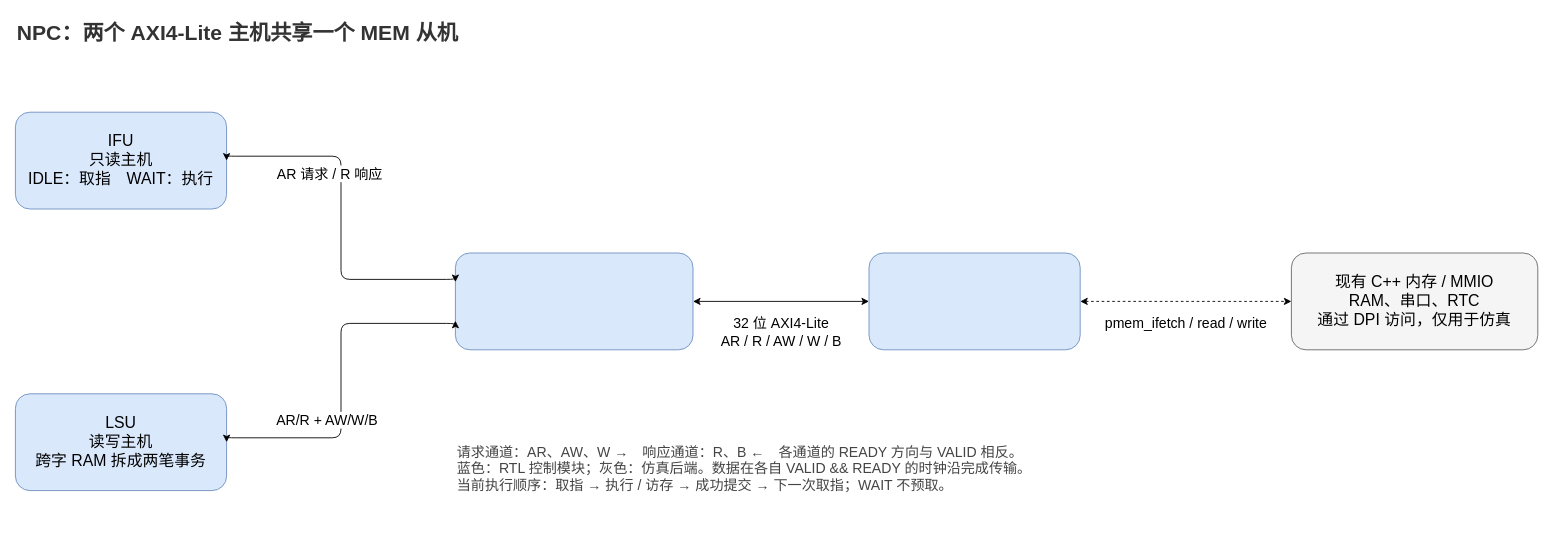
This 1553x540 diagram has some shape labels left out. Each missing label, with the centre of its shape:
AXIArbiter 读：轮询，锁定至 R 握手 写：LSU 的 AW/W/B 直通: the point at 574,301
MEM 单个 AXI4-Lite 从机 AR 缓存，AW/W 独立缓存: the point at 974,301
